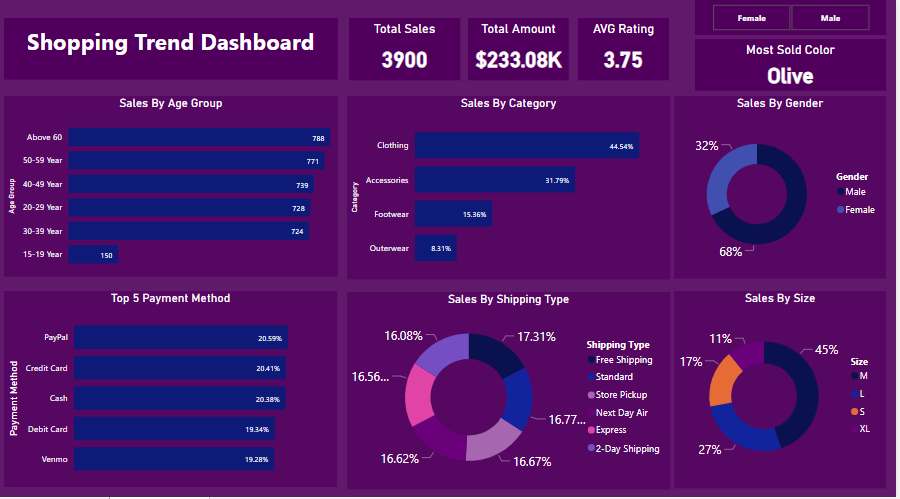

This screenshot's page, from the dashboard's own definition file:
{"tool":"powerbi","page":{"name":"Dashboard","canvas":[1280,720],"ordinal":0},"visuals":[{"type":"card","title":"Total Sales","fields":{"Values":["CountNonNull(shopping_trends_updated.Customer ID)"]},"box":[498.6,27.1,158.6,88.6],"z":0},{"type":"barChart","title":"Sales By Age Group","fields":{"Category":["shopping_trends_updated.Age Group"],"Y":["CountNonNull(shopping_trends_updated.Customer ID)"]},"box":[5,138.3,476.7,258.3],"z":1000},{"type":"card","title":"Total Amount","fields":{"Values":["Sum(shopping_trends_updated.Purchase Amount (USD))"]},"box":[668.6,27.1,144.3,88.6],"z":2000},{"type":"donutChart","title":"Sales By Gender","fields":{"Category":["shopping_trends_updated.Gender"],"Y":["CountNonNull(shopping_trends_updated.Customer ID)"]},"box":[962.9,138.6,302.9,261.4],"z":3000},{"type":"barChart","title":"Sales By Category","fields":{"Category":["shopping_trends_updated.Category"],"Y":["CountNonNull(shopping_trends_updated.Customer ID)"]},"box":[495,138.3,461.7,261.7],"z":4000},{"type":"barChart","title":"Top 5 Payment Method","fields":{"Y":["CountNonNull(shopping_trends_updated.Customer ID)"],"Category":["shopping_trends_updated.Payment Method"]},"box":[5.7,417.1,475.7,280],"z":5000},{"type":"donutChart","title":"Sales By Shipping Type","fields":{"Y":["CountNonNull(shopping_trends_updated.Customer ID)"],"Category":["shopping_trends_updated.Shipping Type"]},"box":[495,418.3,461.7,281.7],"z":6000},{"type":"donutChart","title":"Sales By Size","fields":{"Y":["CountNonNull(shopping_trends_updated.Customer ID)"],"Category":["shopping_trends_updated.Size"]},"box":[963.3,416.7,303.3,281.7],"z":7000},{"type":"card","title":"AVG Rating","fields":{"Values":["Avg(shopping_trends_updated.Review Rating)"]},"box":[825.7,27.1,130,88.6],"z":8000},{"type":"slicer","fields":{"Values":["shopping_trends_updated.Gender"]},"box":[992.9,1.4,272.9,50],"z":9000},{"type":"card","title":"Most Sold Color","fields":{"Values":["Min(shopping_trends_updated.Color)"]},"box":[992.9,57.1,272.9,74.3],"z":10000},{"type":"textbox","box":[5,26.7,476.7,88.3],"z":11000}]}

Visuals, with their boxes in screenshot pixels (x1, y1, x2, y2), scaled from the page's 1280x720 canvas onto the 900x499 screenshot:
"Total Sales" card: BBox(351, 19, 462, 80)
"Sales By Age Group" barChart: BBox(4, 96, 339, 275)
"Total Amount" card: BBox(470, 19, 572, 80)
"Sales By Gender" donutChart: BBox(677, 96, 890, 277)
"Sales By Category" barChart: BBox(348, 96, 673, 277)
"Top 5 Payment Method" barChart: BBox(4, 289, 338, 483)
"Sales By Shipping Type" donutChart: BBox(348, 290, 673, 485)
"Sales By Size" donutChart: BBox(677, 289, 891, 484)
"AVG Rating" card: BBox(581, 19, 672, 80)
slicer - shopping_trends_updated.Gender: BBox(698, 1, 890, 36)
"Most Sold Color" card: BBox(698, 40, 890, 91)
textbox: BBox(4, 19, 339, 80)
